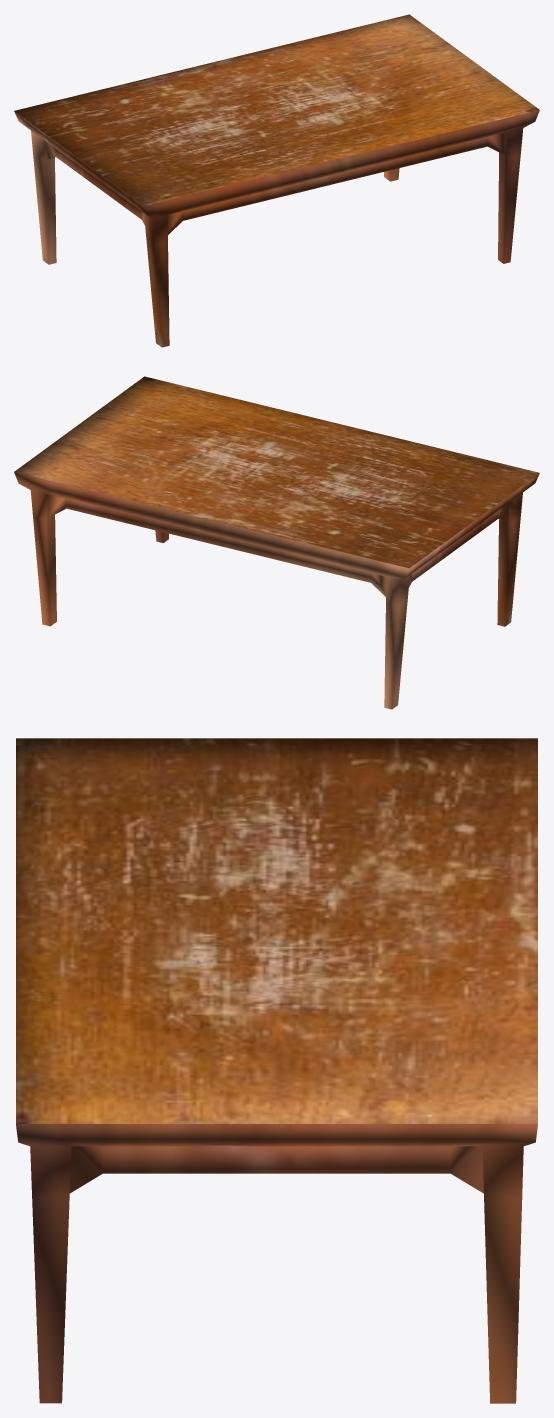
Rendered from porn_table.FBX.
3 renders of one model, top to bottom at view 1: azimuth 30°, elevation 25°; view 2: azimuth 150°, elevation 25°; view 3: azimuth 270°, elevation 25°, orthographic. The views are drawn at different scales.
Visible parts, largest first — view 1: Box001; view 2: Box001; view 3: Box001.
Part boxes in pixels (x1,y1,x2,y2): Box001: (14, 14, 539, 347); Box001: (14, 376, 539, 709); Box001: (16, 738, 537, 1403).
Size of the model in its own units: 92.53 by 33.76 by 52.9.
